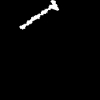half_double_crochet: (20, 0, 58, 28)
